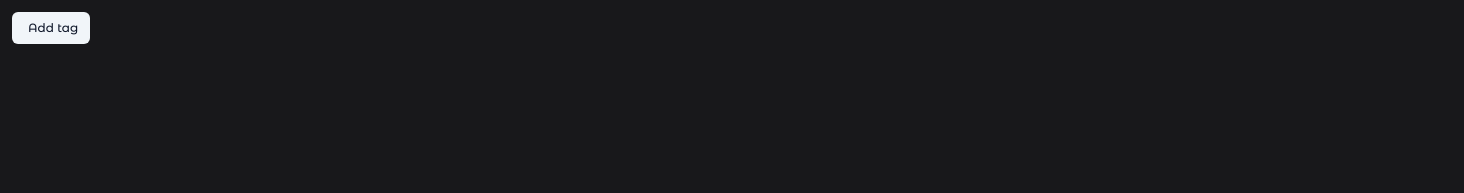
Test: TagPicker › submits a new tag via the createTag server action and closes the form on success
The width and height of the screenshot is (1464, 193).
Click the button "Add tag". click: {"x": 51, "y": 28}
box: x1=12 y1=12 x2=90 y2=44
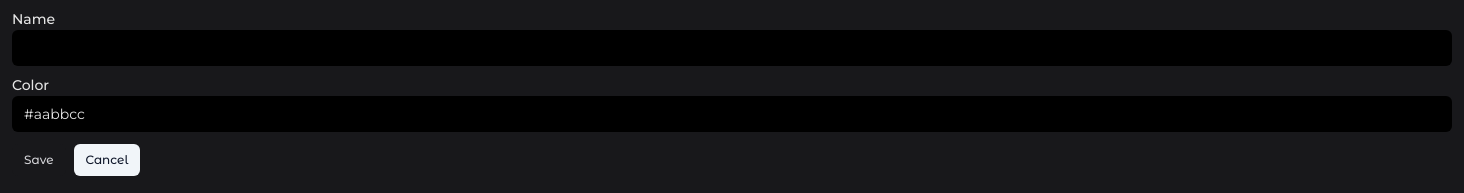
Type "Blue" into the field labelled "Name". click: {"x": 732, "y": 48}
box: x1=12 y1=30 x2=1452 y2=66
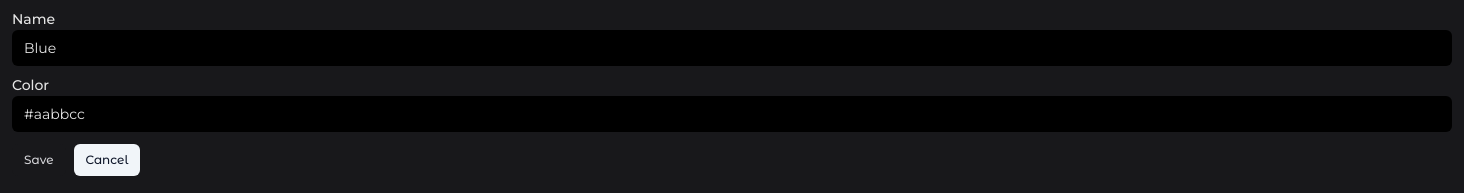
Type "#0000ff" into the field labelled "Color". click: {"x": 732, "y": 114}
box: x1=12 y1=96 x2=1452 y2=132
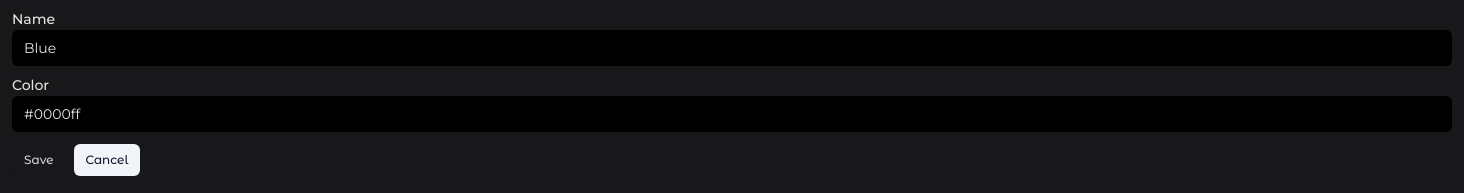
Click the button "Save". click: {"x": 39, "y": 160}
box: x1=12 y1=144 x2=66 y2=176
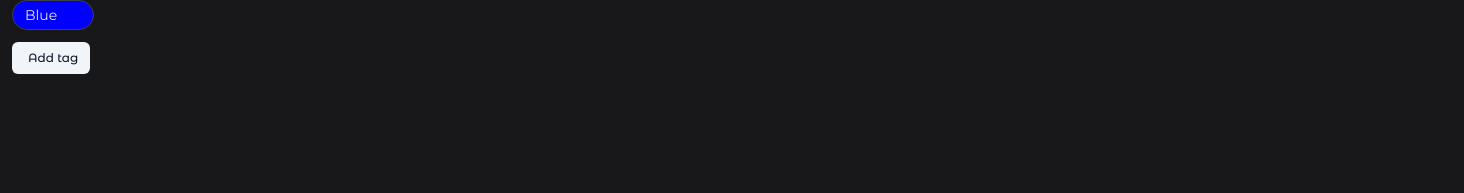
expect the label labelled "Name" is gone: met
